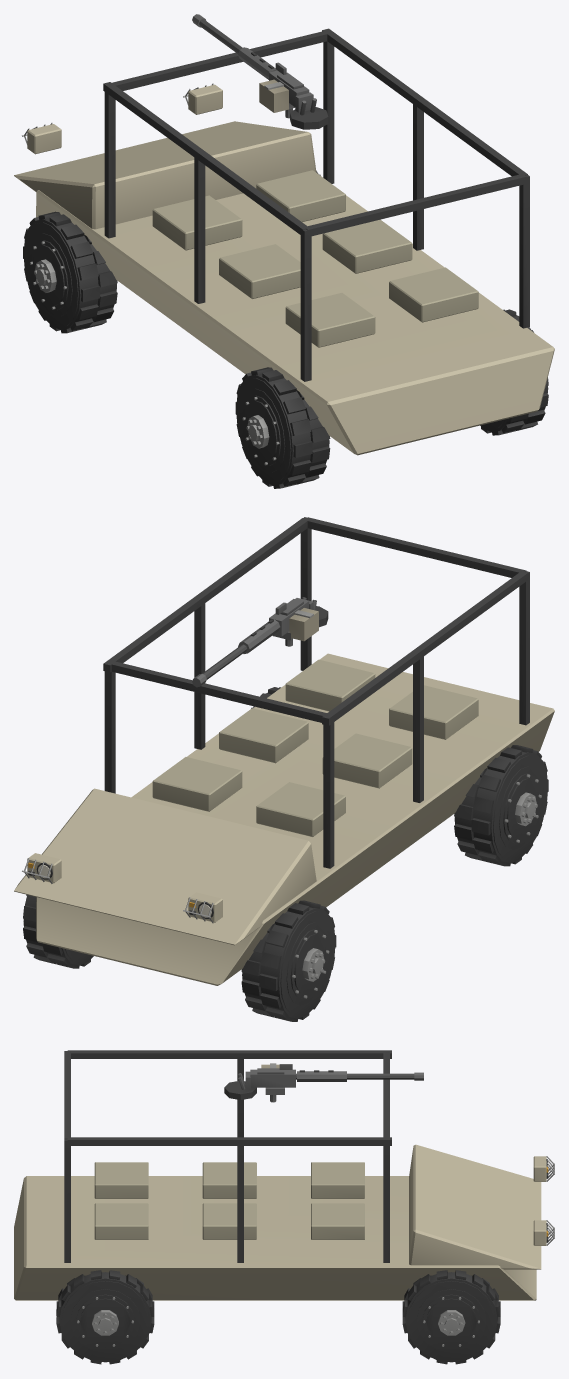
File: usa_lv_isv_hv.glb
3 views of the same model, one above another, from view 1: azimuth 30°, elevation 25°; view 2: azimuth 150°, elevation 25°; view 3: azimuth 270°, elevation 25° (orthographic). The views are drawn at different scales.
Visible parts, largest first — view 1: body, wheel_2, wheel_0, barrel, wheel_3, turret; view 2: body, wheel_2, wheel_0, barrel, wheel_1; view 3: body, wheel_1, wheel_3, barrel, turret.
Part boxes in pixels (left/top/right/bottom): body: left=14, top=28, right=554, bottom=455; wheel_2: left=235, top=367, right=330, bottom=488; wheel_0: left=23, top=211, right=117, bottom=333; barrel: left=192, top=14, right=316, bottom=118; wheel_3: left=480, top=309, right=548, bottom=435; turret: left=290, top=107, right=328, bottom=129; body: left=14, top=517, right=554, bottom=985; wheel_2: left=454, top=745, right=548, bottom=866; wheel_0: left=241, top=900, right=336, bottom=1021; barrel: left=192, top=597, right=318, bottom=687; wheel_1: left=23, top=894, right=93, bottom=968; body: left=14, top=1050, right=554, bottom=1300; wheel_1: left=402, top=1270, right=500, bottom=1364; wheel_3: left=56, top=1270, right=154, bottom=1364; barrel: left=238, top=1063, right=423, bottom=1102; turret: left=224, top=1081, right=256, bottom=1099.
Size of the model in its own units: 2.42 by 2.55 by 5.
